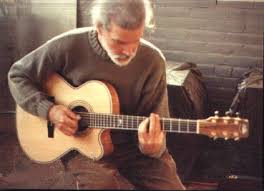fretboard: (88, 113, 197, 134)
